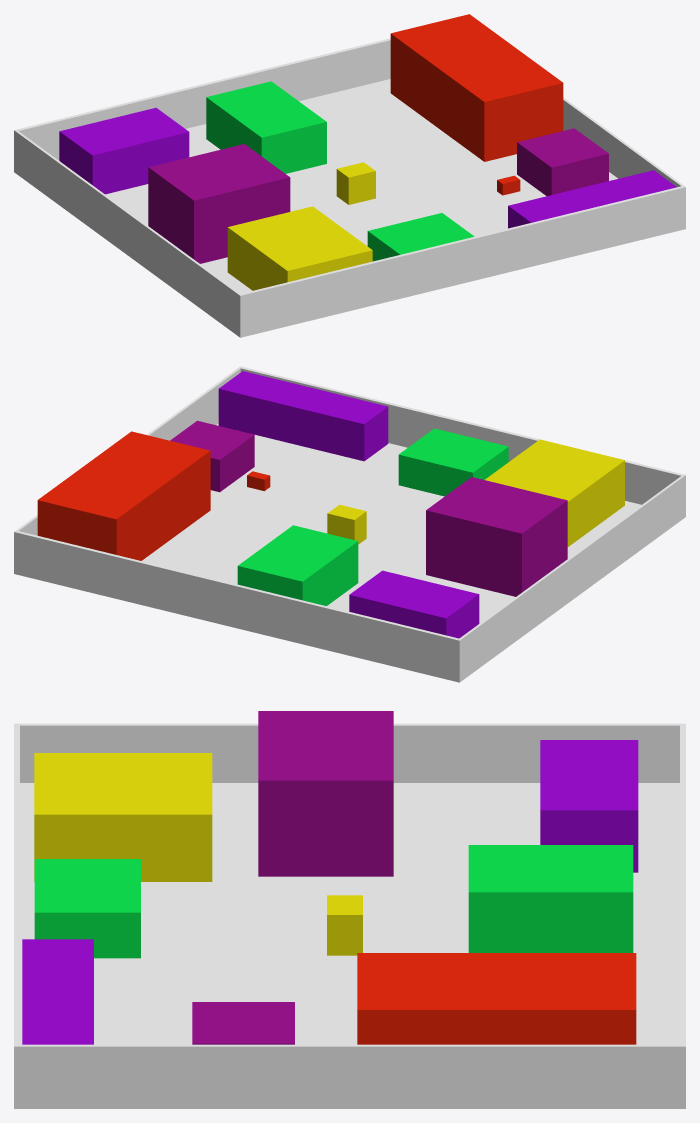
The model's file is testback.FBX.
The picture shows the model from 3 angles, top to bottom: view 1: azimuth 30°, elevation 25°; view 2: azimuth 150°, elevation 25°; view 3: azimuth 270°, elevation 25°; orthographic projection. The views are drawn at different scales.
Parts seen in each view (by area): view 1: Box001, Box006, Box004, Box010, Box003, Box002, Box009, Box005, Box011, Box007; view 2: Box001, Box006, Box004, Box005, Box010, Box003, Box002, Box011, Box009, Box007; view 3: Box001, Box006, Box004, Box010, Box003, Box002, Box011, Box005, Box009, Box007.
Boxes of the visible parts, bbox=[...] form: Box001: bbox=[14, 38, 685, 337]; Box006: bbox=[390, 14, 563, 161]; Box004: bbox=[148, 144, 290, 263]; Box010: bbox=[227, 206, 372, 290]; Box003: bbox=[206, 81, 326, 173]; Box002: bbox=[59, 107, 189, 194]; Box009: bbox=[517, 128, 608, 195]; Box005: bbox=[508, 170, 676, 228]; Box011: bbox=[367, 213, 474, 261]; Box007: bbox=[336, 162, 375, 204]; Box001: bbox=[14, 366, 685, 682]; Box006: bbox=[37, 431, 210, 560]; Box004: bbox=[426, 477, 567, 596]; Box005: bbox=[218, 371, 388, 461]; Box010: bbox=[485, 439, 624, 546]; Box003: bbox=[237, 525, 358, 605]; Box002: bbox=[349, 570, 479, 638]; Box011: bbox=[398, 428, 508, 496]; Box009: bbox=[170, 420, 254, 492]; Box007: bbox=[327, 504, 366, 544]; Box001: bbox=[14, 723, 685, 1108]; Box006: bbox=[357, 953, 636, 1044]; Box004: bbox=[258, 711, 393, 876]; Box010: bbox=[34, 753, 212, 881]; Box003: bbox=[468, 845, 633, 952]; Box002: bbox=[540, 740, 638, 872]; Box011: bbox=[34, 859, 140, 958]; Box005: bbox=[22, 939, 93, 1044]; Box009: bbox=[192, 1002, 294, 1044]; Box007: bbox=[327, 895, 362, 955].
Size of the model in its own units: 1043 by 918 by 152.
Materials: 6 (6 with a texture image).
